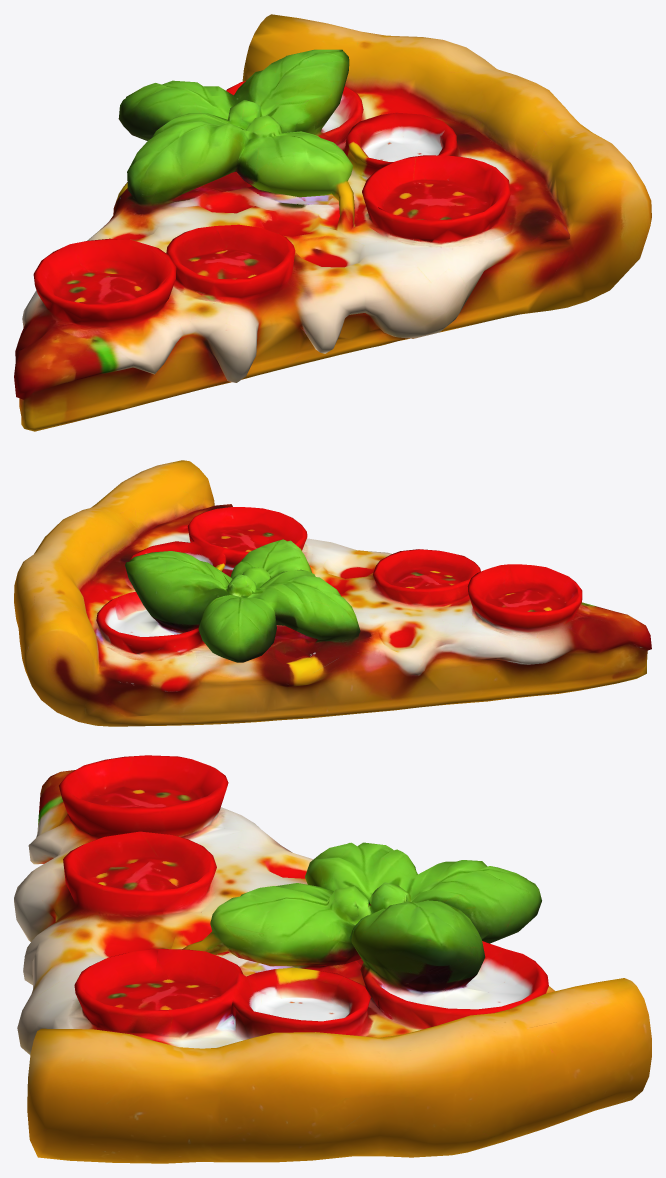
The model's file is pizza_slice-2026-03-30-081556.glb.
3 renders of one model, top to bottom at view 1: azimuth 30°, elevation 25°; view 2: azimuth 150°, elevation 25°; view 3: azimuth 270°, elevation 25°, orthographic. The views are drawn at different scales.
Size of the model in its own units: 1.91 by 0.449 by 1.41.
1 material, 1 textured.
